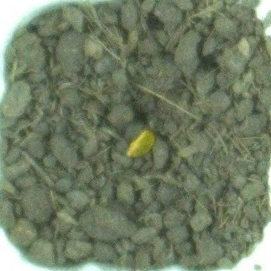chilli seed: (124, 128, 158, 159)
